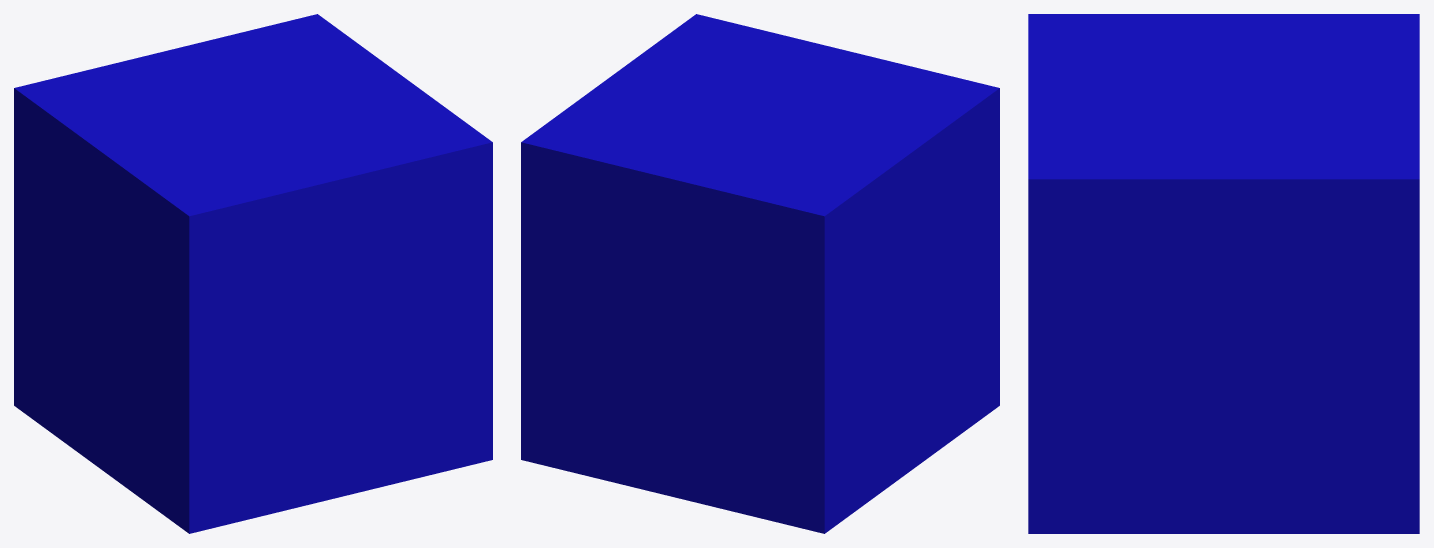
Rendered from Water.obj.
The picture shows the model from 3 angles, left to right: view 1: azimuth 30°, elevation 25°; view 2: azimuth 150°, elevation 25°; view 3: azimuth 270°, elevation 25°; orthographic projection. The views are drawn at different scales.
Visible parts, largest first — view 1: Cube; view 2: Cube; view 3: Cube.
Boxes of the visible parts, x1,y1,x2,y2 form: Cube: [14, 14, 492, 533]; Cube: [521, 14, 999, 533]; Cube: [1028, 14, 1419, 533].
Size of the model in its own units: 2 by 2 by 2.
